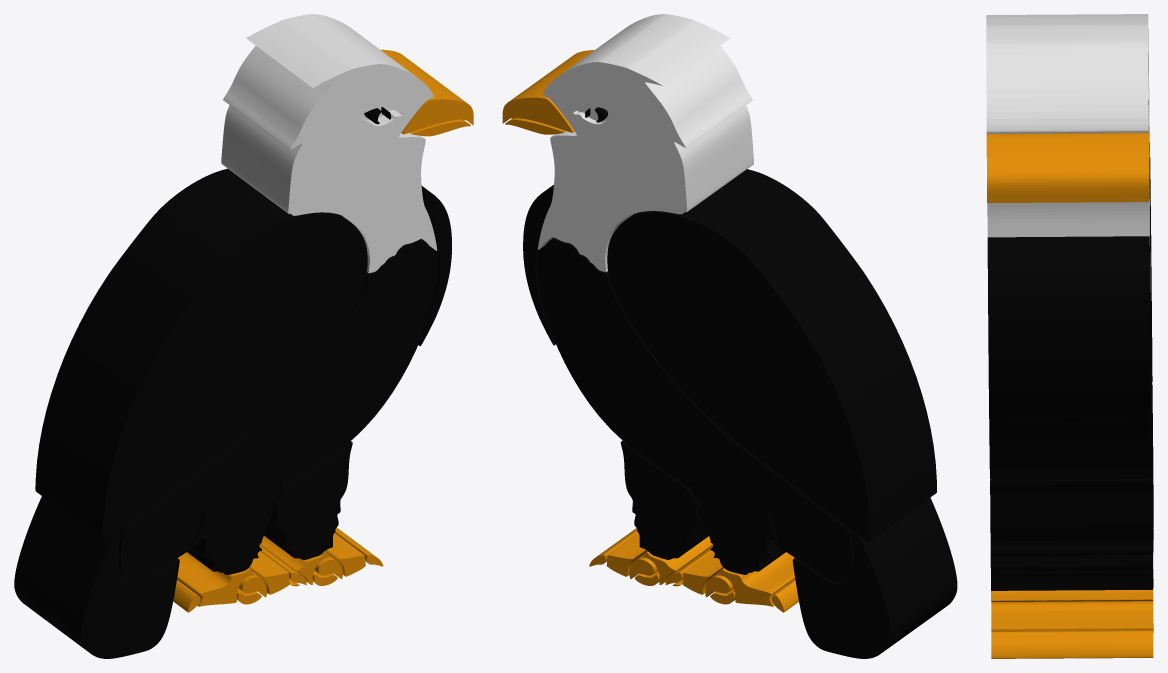
The model's file is leftEagle.fbx.
3 views of the same model, side by side, from view 1: azimuth 30°, elevation 25°; view 2: azimuth 150°, elevation 25°; view 3: azimuth 270°, elevation 25° (orthographic). The views are drawn at different scales.
Parts seen in each view (by area): view 1: Curve.005, Curve, Curve.007, Curve.009, Curve.008, Curve.003, Curve.010, Curve.006, Curve.014, Curve.011, Curve.015; view 2: Curve.005, Curve, Curve.007, Curve.009, Curve.008, Curve.003, Curve.010, Curve.006, Curve.014, Curve.011, Curve.015; view 3: Curve.006, Curve, Curve.008, Curve.003, Curve.007, Curve.018, Curve.015, Curve.011, Curve.013, Curve.005.
Boxes of the visible parts, x1,y1,x2,y2 form: Curve.005: (35, 168, 367, 541); Curve: (221, 14, 437, 273); Curve.007: (118, 238, 437, 582); Curve.009: (14, 496, 179, 658); Curve.008: (264, 441, 352, 559); Curve.003: (380, 49, 473, 134); Curve.010: (177, 552, 254, 606); Curve.006: (418, 186, 451, 346); Curve.014: (248, 551, 289, 594); Curve.011: (260, 536, 329, 584); Curve.015: (325, 533, 365, 576); Curve.005: (607, 169, 936, 541); Curve: (538, 14, 753, 272); Curve.007: (537, 237, 853, 582); Curve.009: (792, 497, 957, 658); Curve.008: (620, 440, 708, 559); Curve.003: (502, 50, 594, 132); Curve.010: (717, 552, 795, 606); Curve.006: (523, 185, 555, 345); Curve.014: (682, 551, 723, 594); Curve.011: (642, 536, 712, 584); Curve.015: (606, 533, 647, 576); Curve.006: (987, 236, 1151, 424); Curve: (986, 14, 1150, 291); Curve.008: (990, 478, 1153, 590); Curve.003: (986, 133, 1149, 202); Curve.007: (989, 293, 1153, 539); Curve.018: (991, 631, 1153, 658); Curve.015: (991, 610, 1153, 631); Curve.011: (991, 588, 1153, 601); Curve.013: (991, 601, 1153, 611); Curve.005: (1149, 143, 1152, 381).
Bounding box in the file's own units: 0.5325 × 0.6967 × 0.1636.
